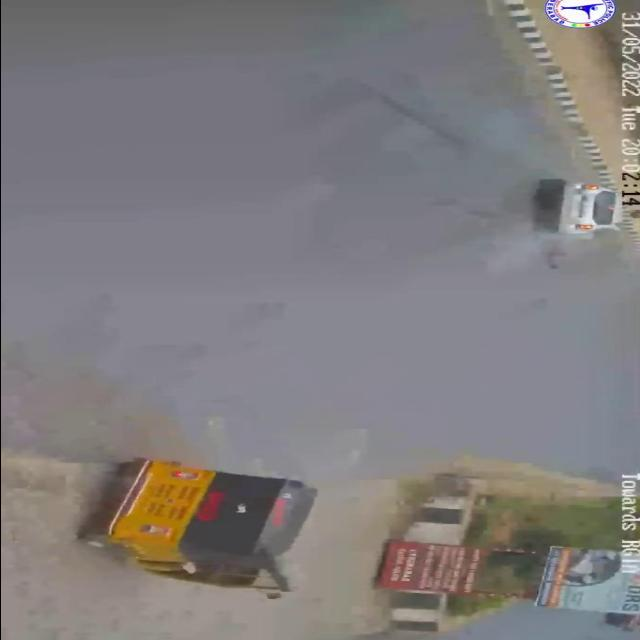accident: (509, 170, 627, 274)
